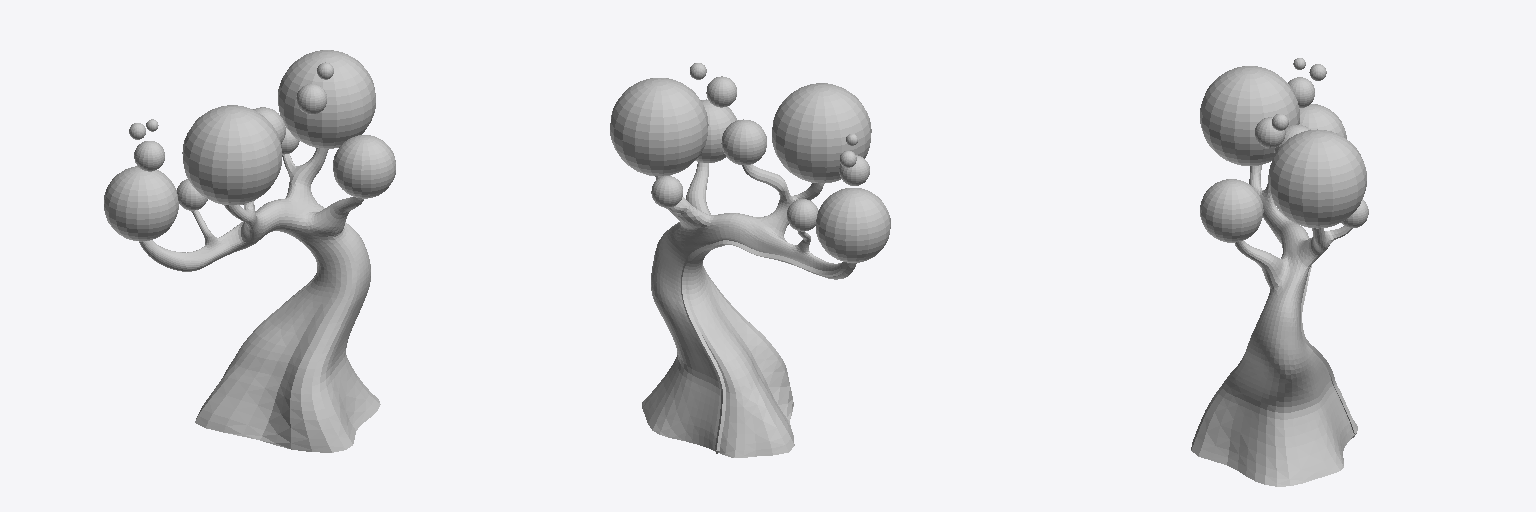
File: tree-08.obj
The picture shows the model from 3 angles: view 1: azimuth 30°, elevation 25°; view 2: azimuth 150°, elevation 25°; view 3: azimuth 270°, elevation 25°; orthographic projection.
Visible parts, largest first — view 1: trunk1 bubble_tree, bubble_tree bubble_02, bubble_tree bubble_01, bubble_tree bubble_03, bubble_tree bubble_05, bubble_tree bubble_10, bubble_tree bubble_06, bubble_tree bubble_09; view 2: trunk1 bubble_tree, bubble_tree bubble_01, bubble_tree bubble_02, bubble_tree bubble_03, bubble_tree bubble_08, bubble_tree bubble_05, bubble_tree bubble_09, bubble_tree bubble_04, bubble_tree bubble_06, bubble_tree bubble_10; view 3: trunk1 bubble_tree, bubble_tree bubble_01, bubble_tree bubble_02, bubble_tree bubble_05, bubble_tree bubble_03, bubble_tree bubble_06, bubble_tree bubble_10.
Boxes of the visible parts, x1,y1,x2,y2 form: trunk1 bubble_tree: [139, 148, 380, 452]; bubble_tree bubble_02: [182, 105, 281, 205]; bubble_tree bubble_01: [278, 50, 375, 148]; bubble_tree bubble_03: [104, 166, 178, 241]; bubble_tree bubble_05: [333, 135, 395, 198]; bubble_tree bubble_10: [134, 141, 164, 171]; bubble_tree bubble_06: [296, 84, 326, 114]; bubble_tree bubble_09: [177, 179, 207, 210]; trunk1 bubble_tree: [642, 162, 856, 457]; bubble_tree bubble_01: [610, 78, 708, 176]; bubble_tree bubble_02: [772, 83, 871, 183]; bubble_tree bubble_03: [816, 188, 890, 262]; bubble_tree bubble_08: [721, 119, 766, 164]; bubble_tree bubble_05: [695, 99, 737, 162]; bubble_tree bubble_09: [787, 199, 818, 231]; bubble_tree bubble_04: [651, 176, 682, 207]; bubble_tree bubble_06: [706, 76, 736, 107]; bubble_tree bubble_10: [839, 155, 869, 185]; trunk1 bubble_tree: [1191, 165, 1357, 486]; bubble_tree bubble_01: [1268, 129, 1366, 228]; bubble_tree bubble_02: [1200, 66, 1299, 165]; bubble_tree bubble_05: [1200, 179, 1263, 242]; bubble_tree bubble_03: [1299, 104, 1346, 138]; bubble_tree bubble_06: [1255, 117, 1285, 147]; bubble_tree bubble_10: [1288, 77, 1314, 107].
Size of the model in its own units: 2.72 by 3.43 by 1.58.